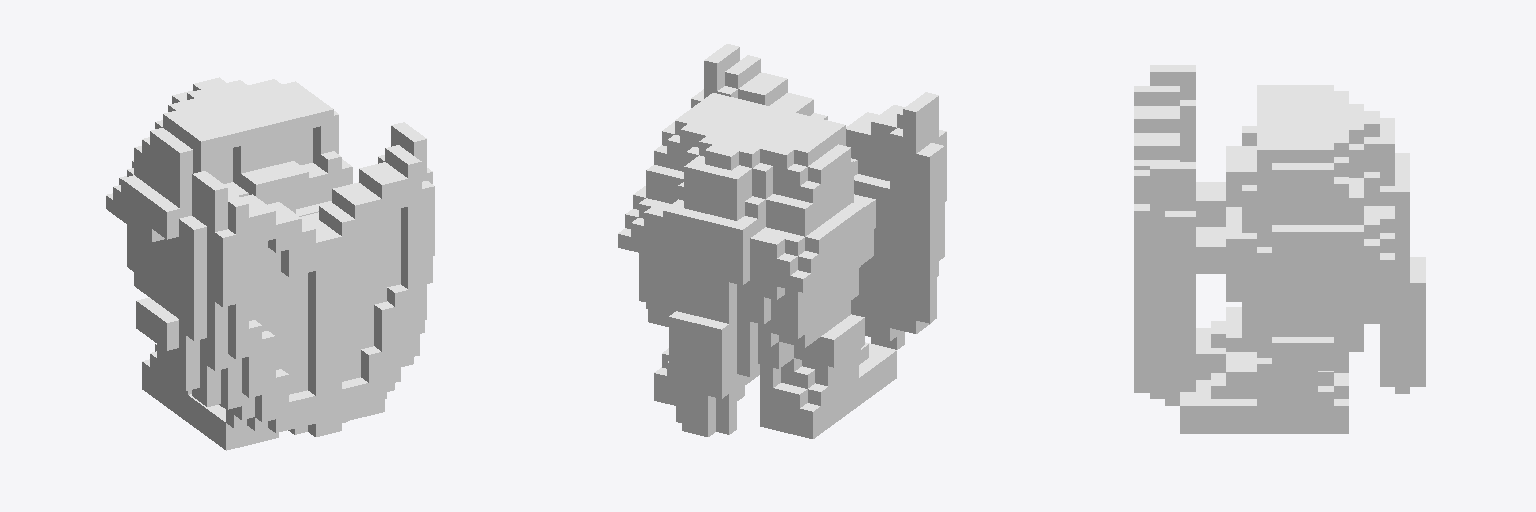
Rendered from shieldboi.obj.
The picture shows the model from 3 angles: view 1: azimuth 30°, elevation 25°; view 2: azimuth 150°, elevation 25°; view 3: azimuth 270°, elevation 25°; orthographic projection.
Parts seen in each view (by area): view 1: object 1; view 2: object 1; view 3: object 1.
Boxes of the visible parts, <box> form: object 1: <box>106,77,434,450</box>; object 1: <box>618,44,946,438</box>; object 1: <box>1134,65,1425,433</box>.
Size of the model in its own units: 1.8 by 2 by 1.9.